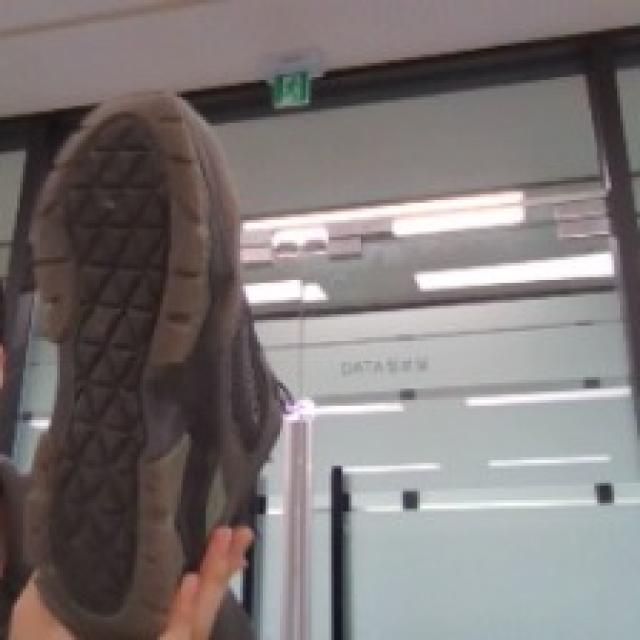shoe: (21, 88, 302, 640)
